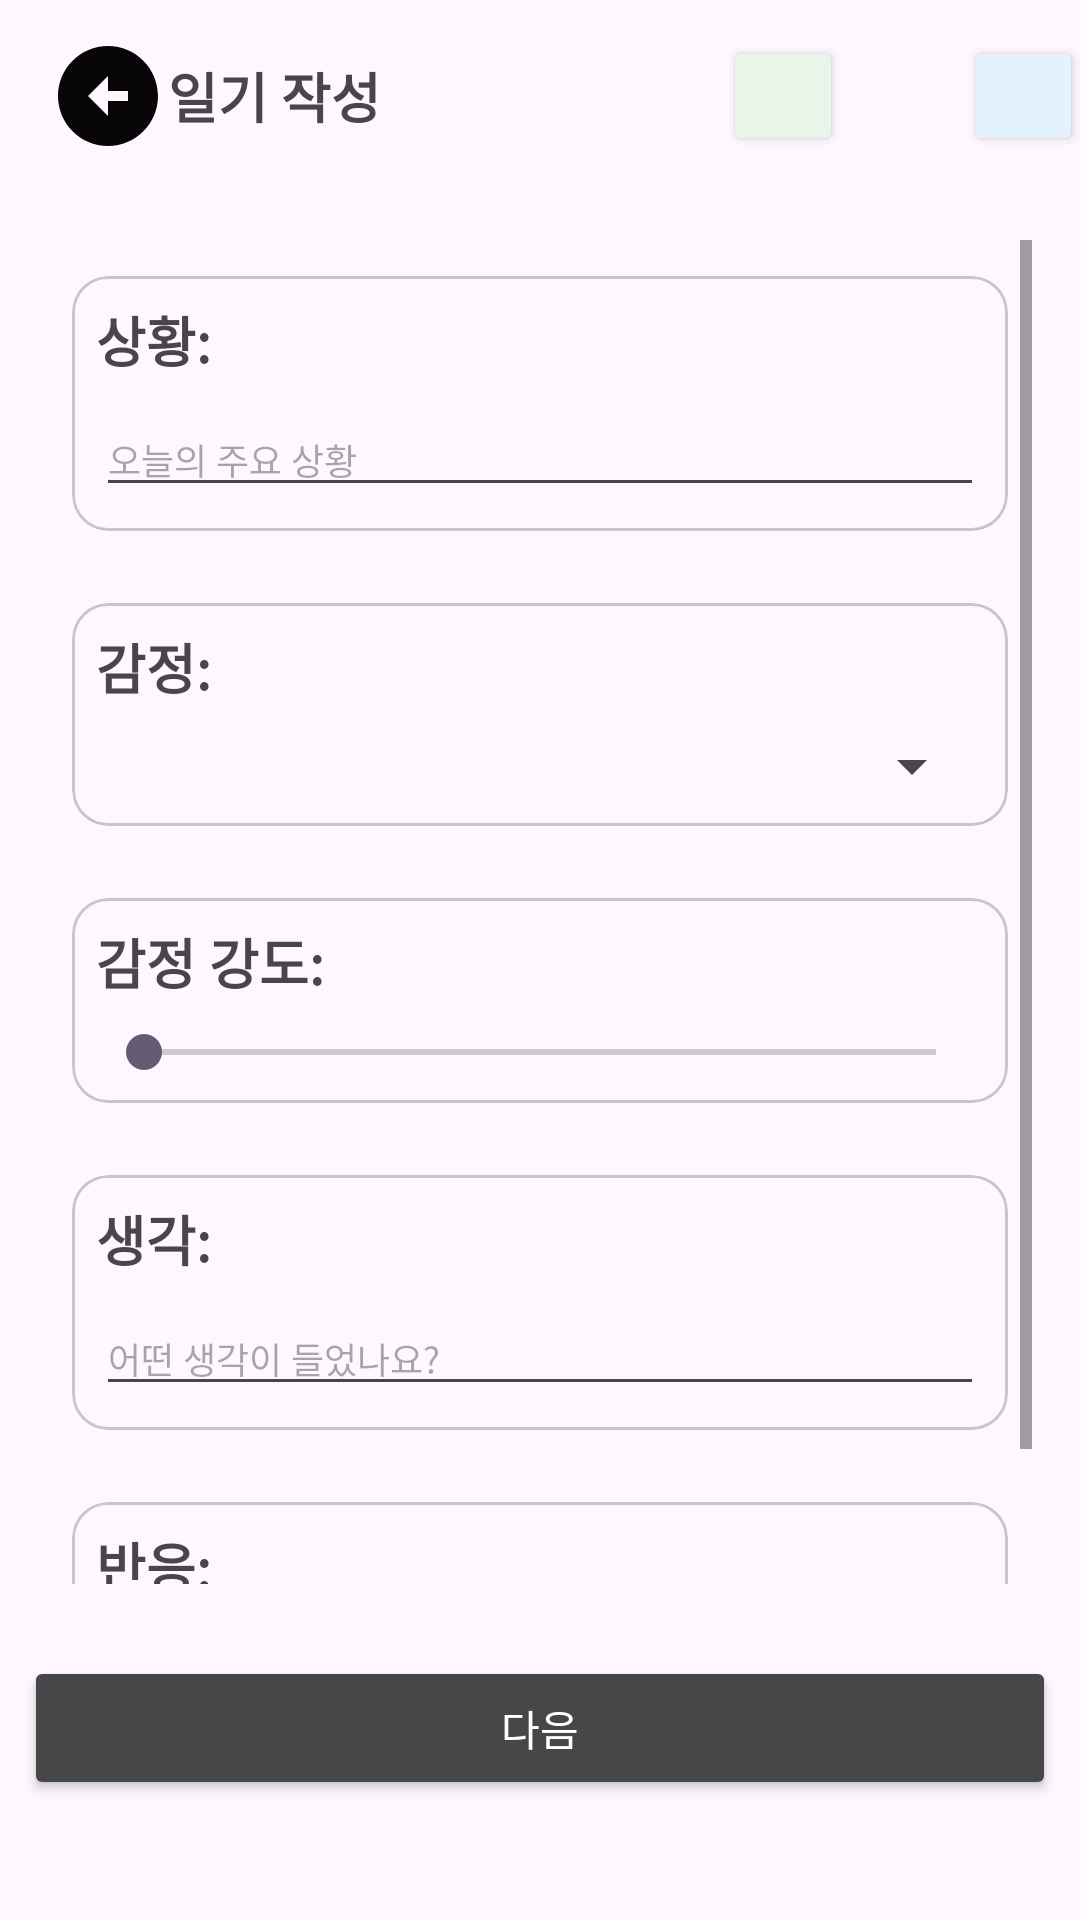

Icon bounding boxes for this 1080px x 1920px phone screenshot, format Rect(x1, y1, x2, y2):
이전 화면으로 돌아가기: Rect(58, 46, 158, 146)
